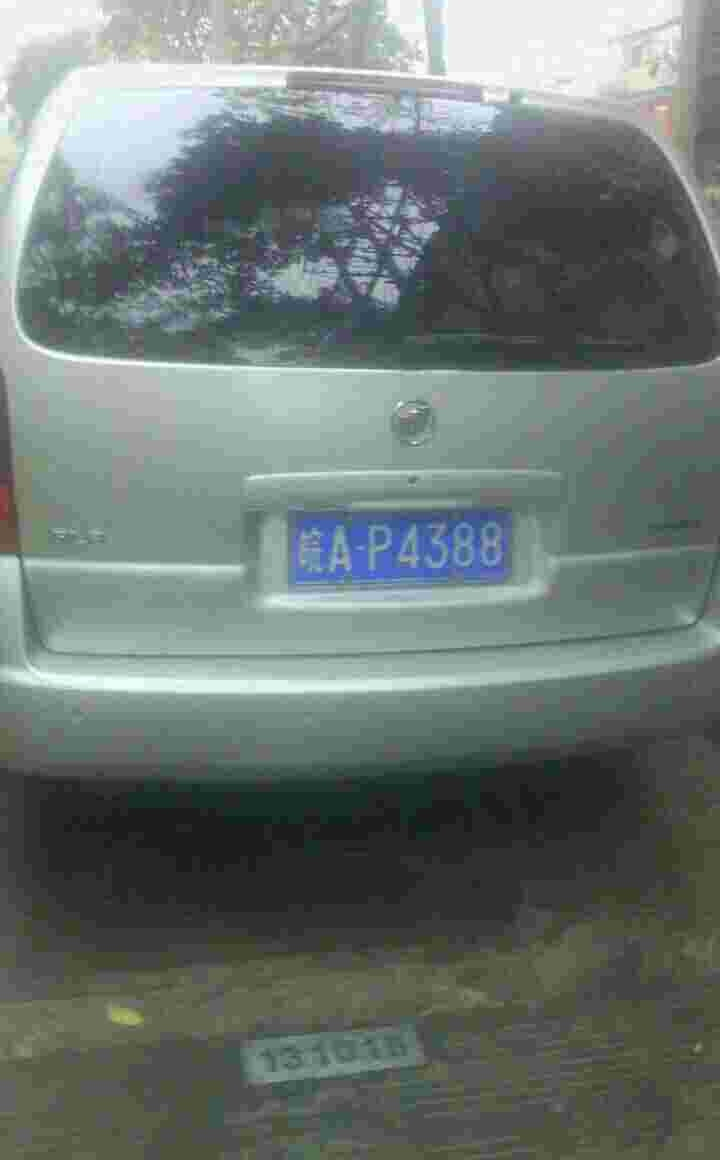license_plate: (297, 506, 496, 581)
